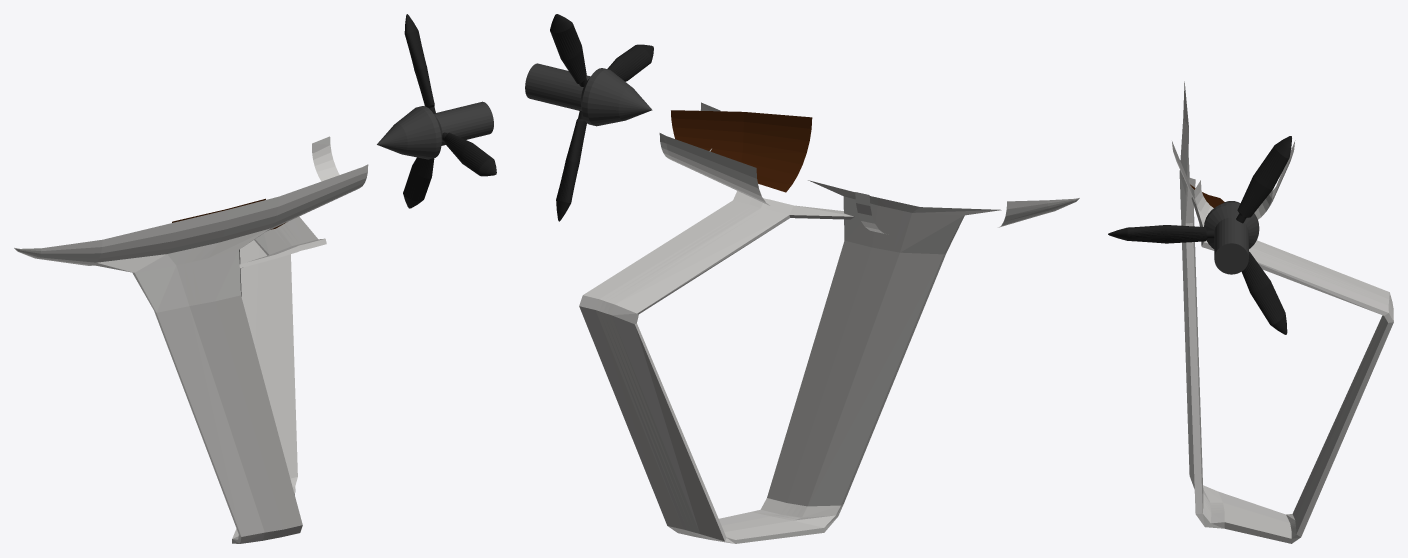
File: synergy_solid.glb
3 renders of one model, left to right at view 1: azimuth 30°, elevation 25°; view 2: azimuth 150°, elevation 25°; view 3: azimuth 270°, elevation 25°, orthographic. The views are drawn at different scales.
Visible parts, largest first — view 1: geometry_1, geometry_0, geometry_4, geometry_3, geometry_2; view 2: geometry_1, geometry_6, geometry_0, geometry_3, geometry_2, geometry_4; view 3: geometry_1, geometry_0, geometry_3, geometry_2, geometry_4.
Part boxes in pixels (x1=…): geometry_1: x1=14, y1=136, x2=368, y2=543; geometry_0: x1=377, y1=101, x2=493, y2=159; geometry_4: x1=442, y1=132, x2=496, y2=176; geometry_3: x1=404, y1=14, x2=435, y2=113; geometry_2: x1=403, y1=157, x2=434, y2=208; geometry_1: x1=579, y1=102, x2=1079, y2=543; geometry_6: x1=671, y1=110, x2=812, y2=192; geometry_0: x1=525, y1=63, x2=652, y2=126; geometry_3: x1=550, y1=14, x2=587, y2=86; geometry_2: x1=556, y1=111, x2=586, y2=221; geometry_4: x1=607, y1=44, x2=653, y2=81; geometry_1: x1=1172, y1=81, x2=1393, y2=543; geometry_0: x1=1204, y1=201, x2=1259, y2=274; geometry_3: x1=1236, y1=136, x2=1291, y2=223; geometry_2: x1=1242, y1=251, x2=1287, y2=334; geometry_4: x1=1108, y1=225, x2=1214, y2=243.
Size of the model in its own units: 3.05 by 2.71 by 1.5.
